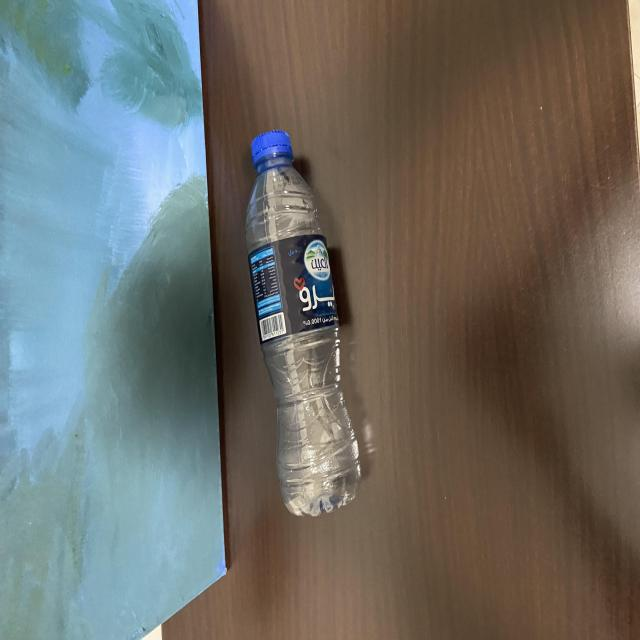bottle: (242, 126, 371, 528)
